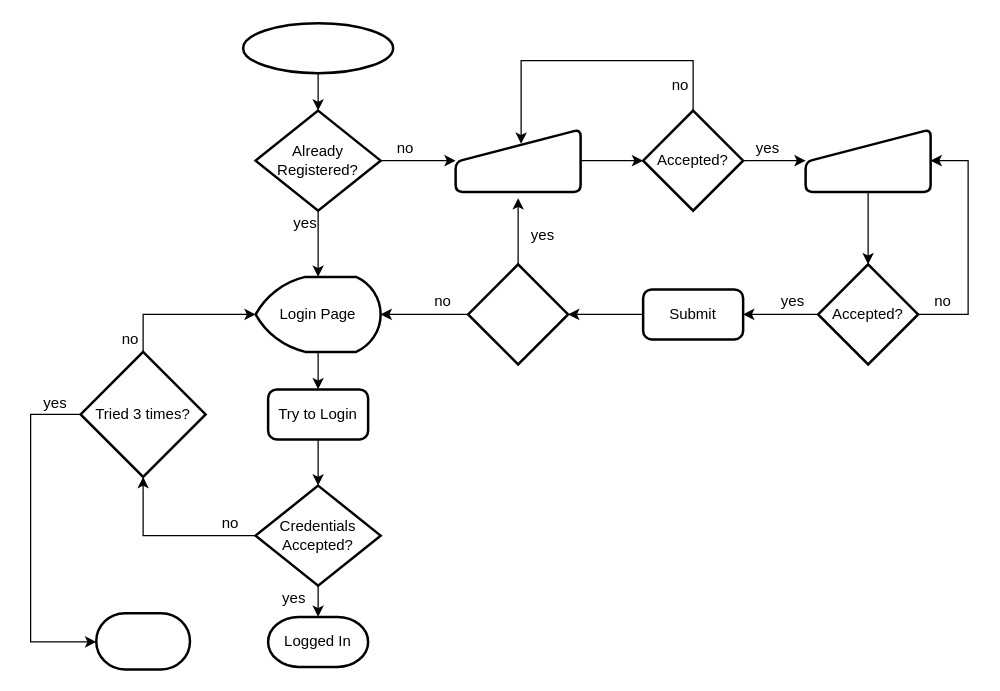
Image size: 1000x691. Some labels were removed from this diagram. Here are the shapes that lost their labels. From the top down, the centre of each, then its label:
the point at 317,47: Register
the point at 517,160: Insert Username
the point at 867,160: Insert Password
the point at 517,313: Error?
the point at 142,640: Exit
